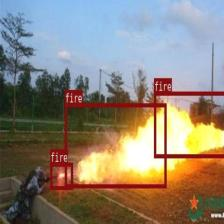fire: (64, 103, 166, 188), (153, 91, 224, 157), (50, 162, 72, 189)
